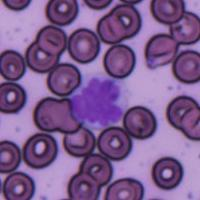M: (68, 72, 130, 129)
